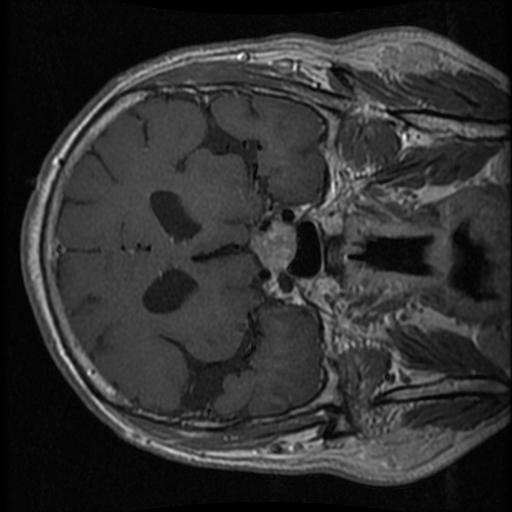pituitary tumour: (250, 218, 296, 274)
